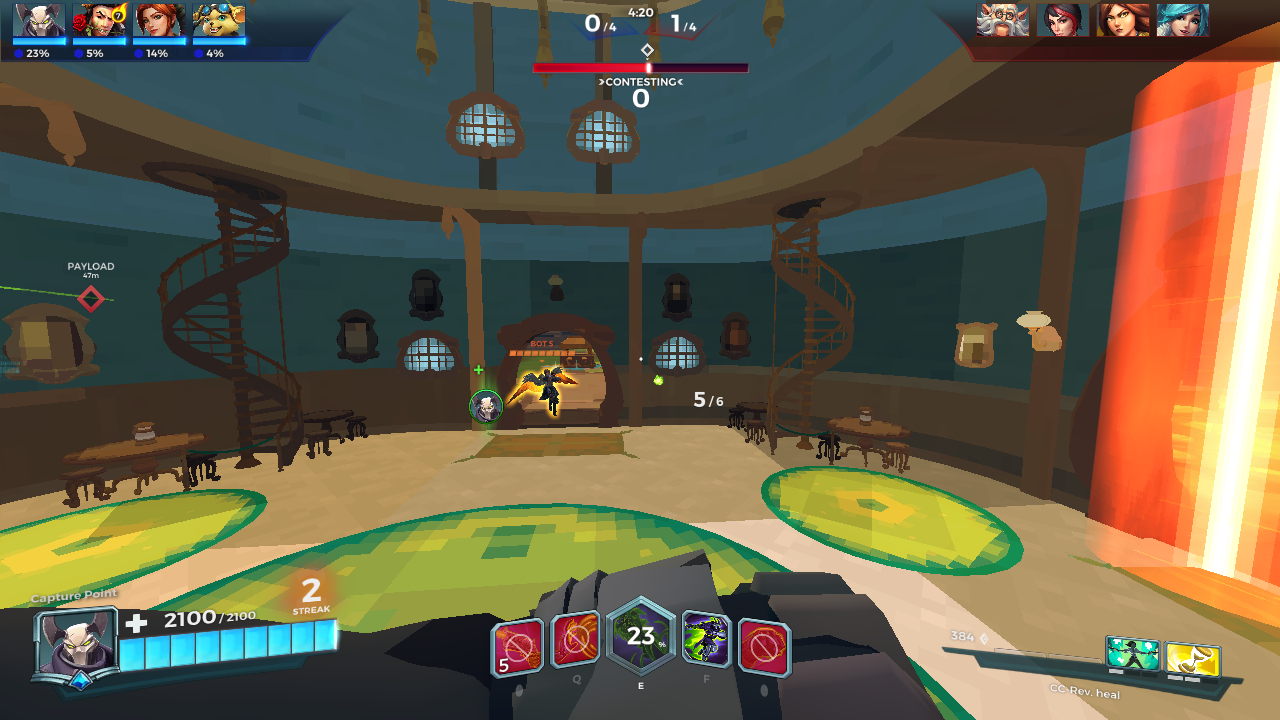model: (500, 363, 577, 421)
